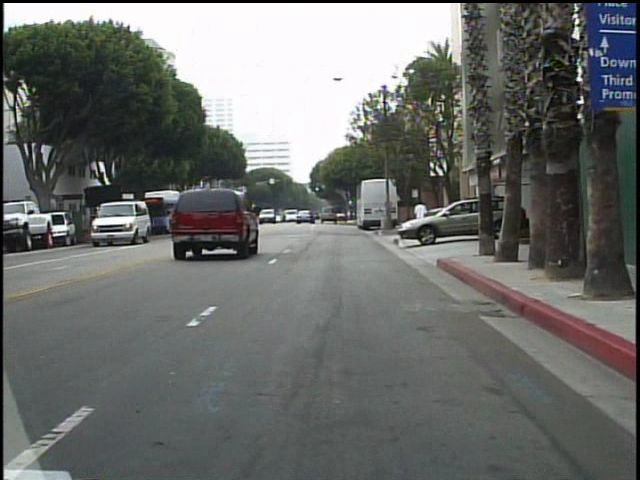person: (410, 195, 430, 238)
